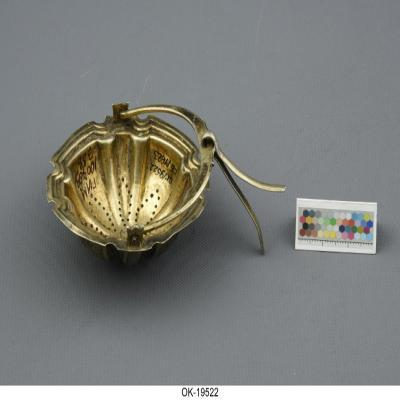dpi: (46, 102, 288, 268)
